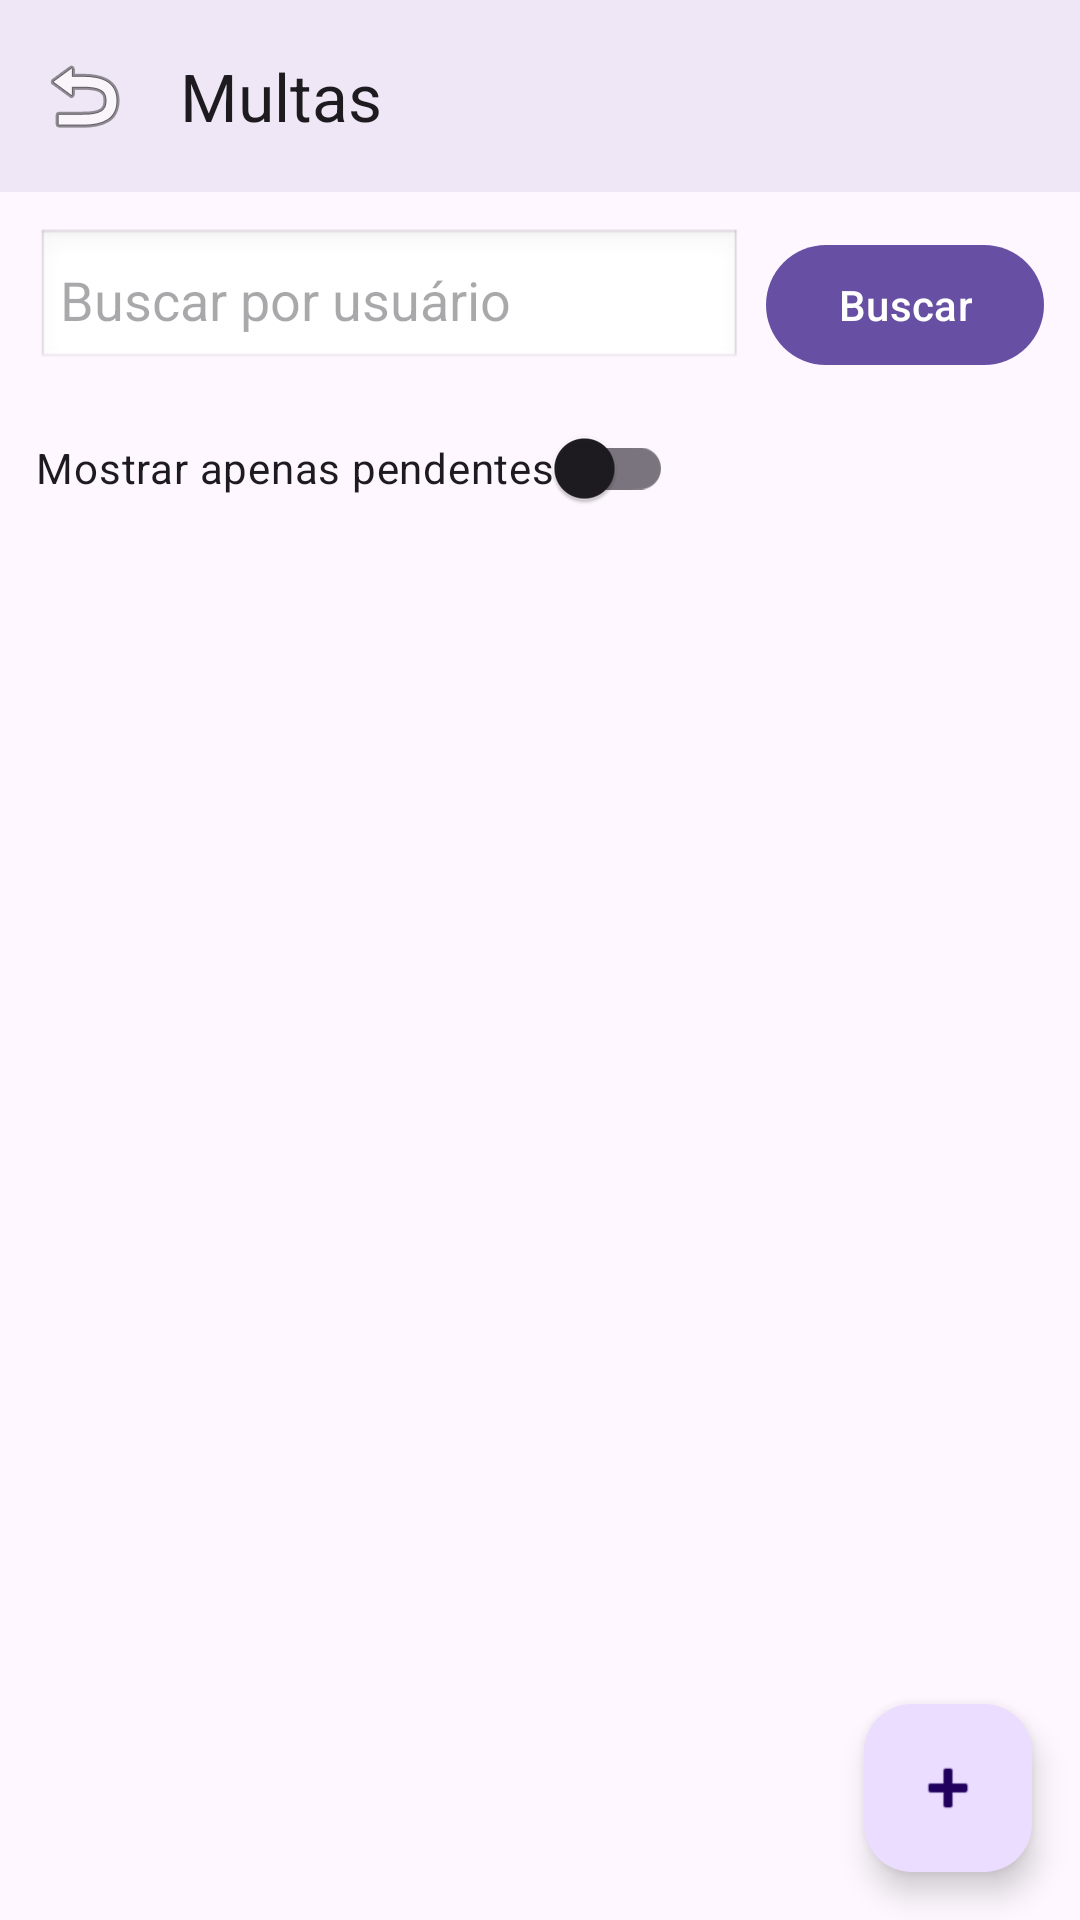

Where to tap for icons on this 1080×1920 app screen, as (x=x, y=y):
Aplicar multa: (x=948, y=1788)
